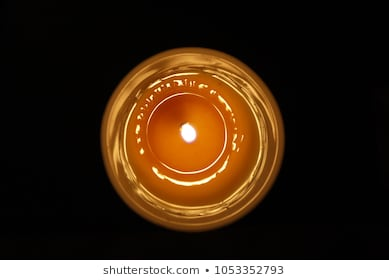Fire: (175, 120, 195, 147)
